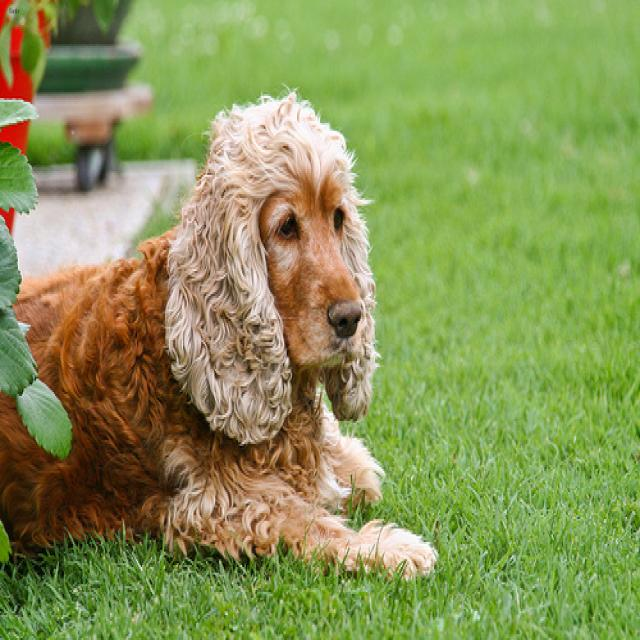dog-english_cocker_spaniel: (1, 77, 444, 615)
